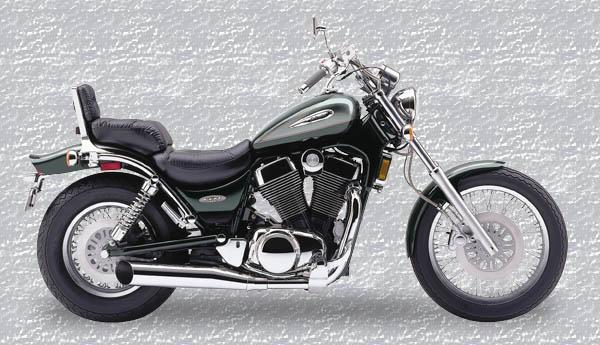motorcycle: (26, 17, 589, 336)
